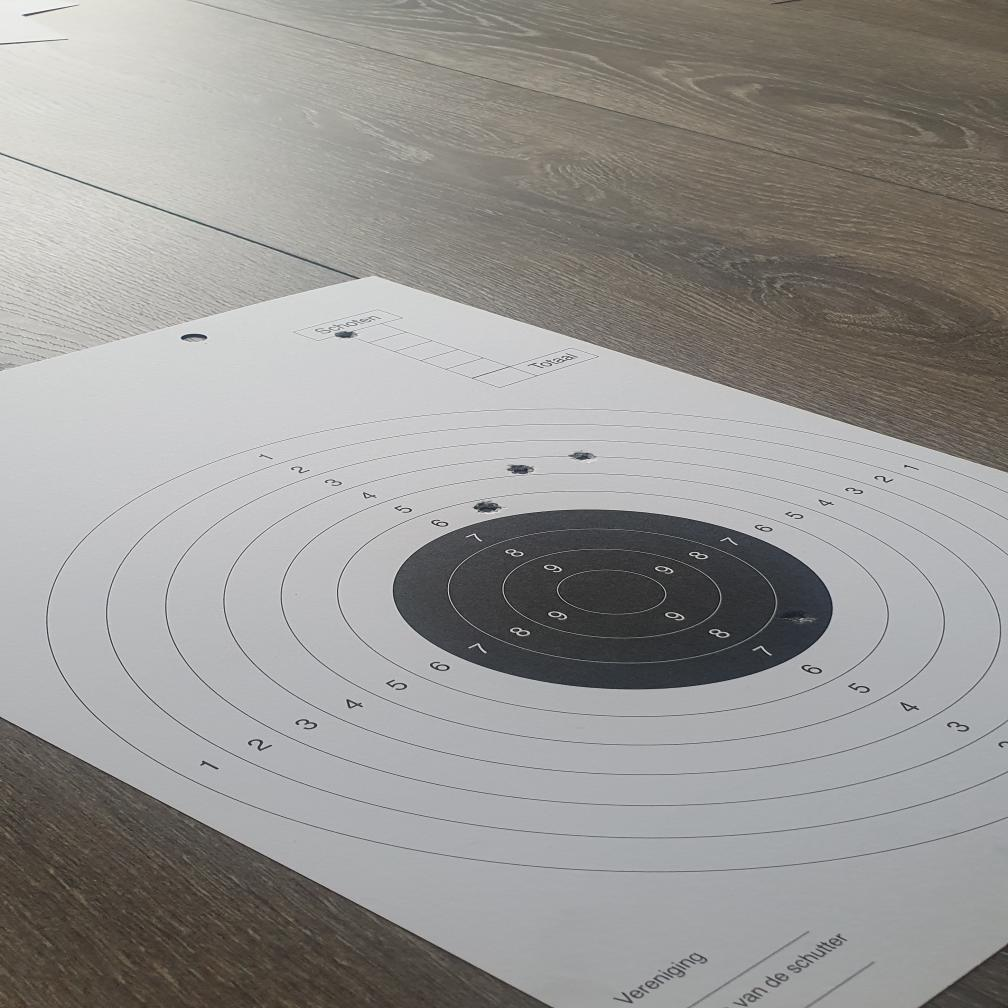0: (328, 326, 364, 341)
4: (566, 450, 599, 464), (501, 464, 536, 475)
6: (470, 499, 507, 515)
7: (777, 607, 819, 626)
Target: (45, 406, 1008, 875)
black_contour: (396, 508, 835, 692)
